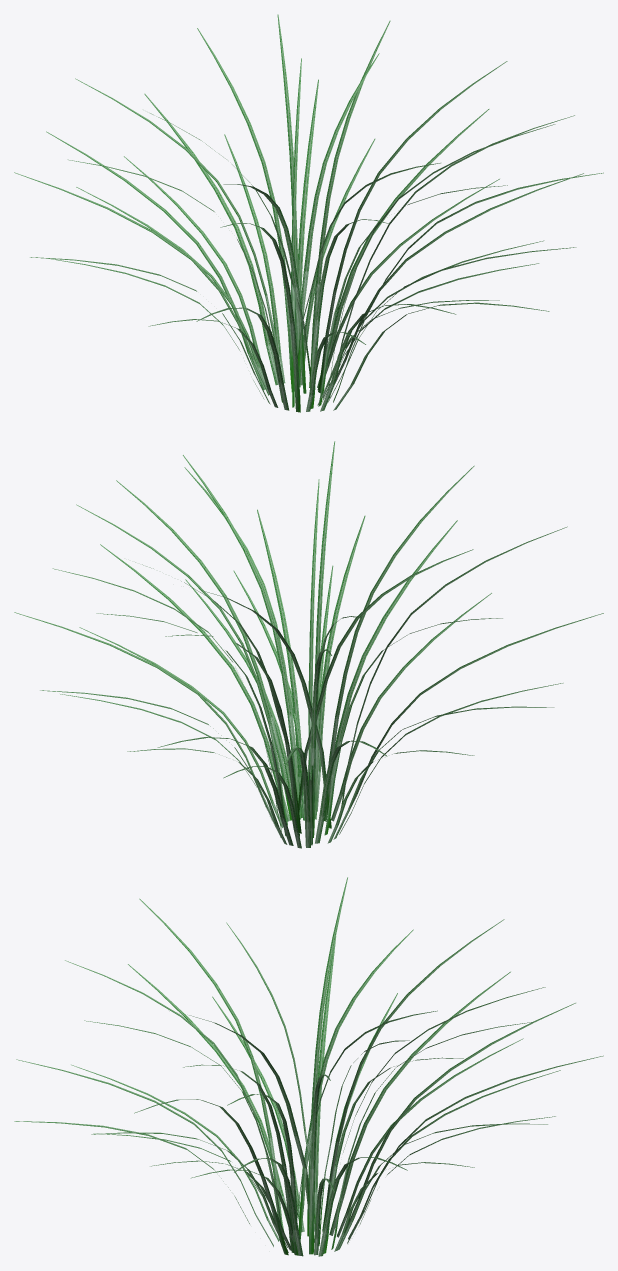
File: Grass.FBX
3 renders of one model, top to bottom at view 1: azimuth 30°, elevation 25°; view 2: azimuth 150°, elevation 25°; view 3: azimuth 270°, elevation 25°, orthographic. The views are drawn at different scales.
Visible parts, largest first — view 1: Grass001; view 2: Grass001; view 3: Grass001.
Part boxes in pixels (x1,y1,x2,y2): Grass001: (14,14,603,412); Grass001: (14,441,603,848); Grass001: (14,877,603,1256).
Size of the model in its own units: 26.75 by 14.08 by 28.19.
Materials: 1 (1 with a texture image).
